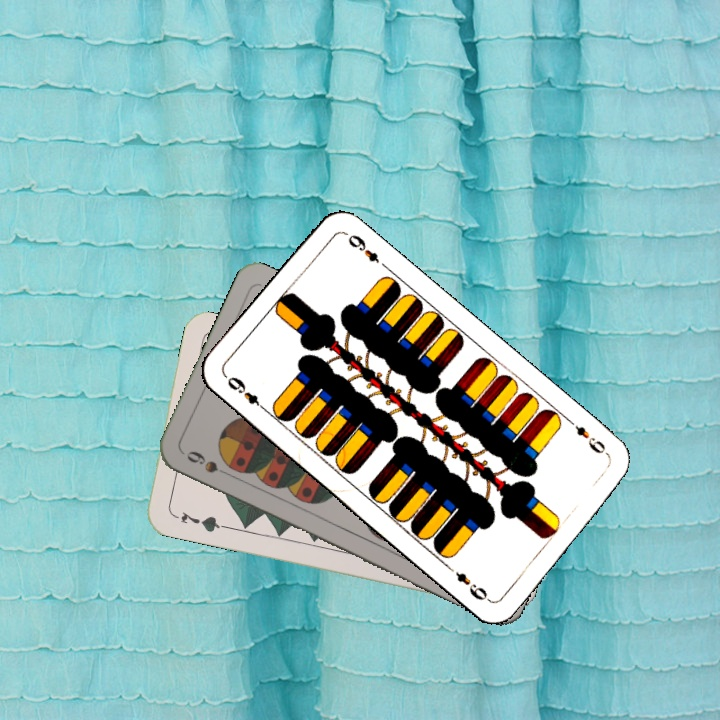E9: (564, 415, 613, 460), (221, 372, 270, 415)
G7: (177, 508, 227, 535)
S9: (182, 446, 236, 481)
